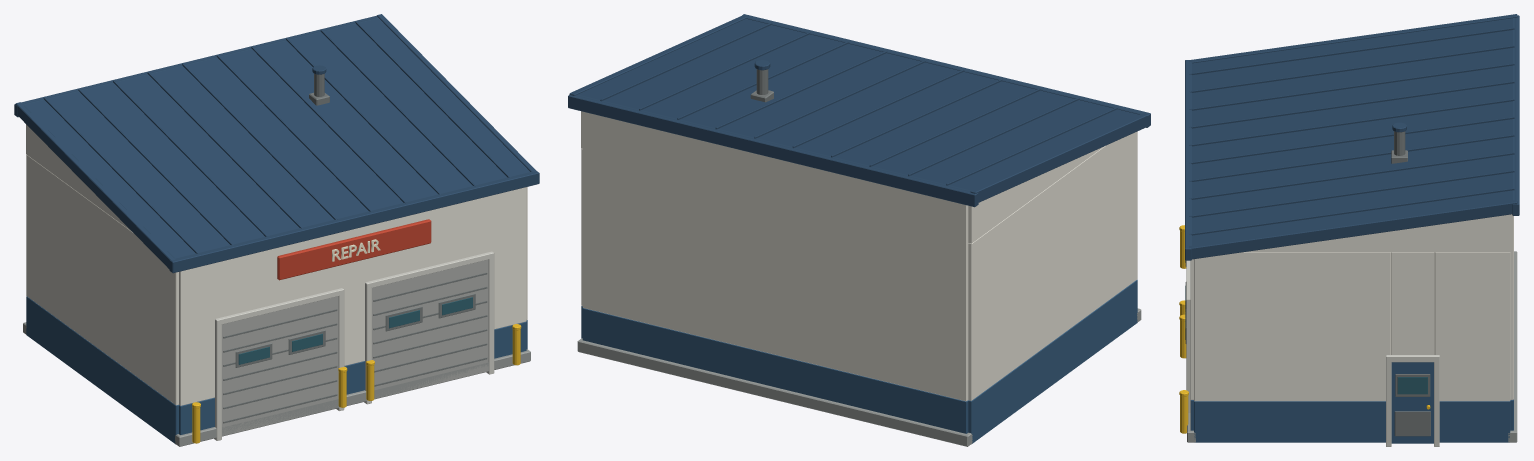
File: AutoRepair.glb
The picture shows the model from 3 angles, left to right: view 1: azimuth 30°, elevation 25°; view 2: azimuth 150°, elevation 25°; view 3: azimuth 270°, elevation 25°; orthographic projection. The views are drawn at different scales.
Visible parts, largest first — view 1: FTF_Building_AutoRepairShop_SlopedRoof_12x9m_BuildingStatic, GarageDoor_Left_Mesh, GarageDoor_Right_Mesh; view 2: FTF_Building_AutoRepairShop_SlopedRoof_12x9m_BuildingStatic; view 3: FTF_Building_AutoRepairShop_SlopedRoof_12x9m_BuildingStatic, SideDoor_Right_Mesh.
Boxes of the visible parts, bbox=[...] form: FTF_Building_AutoRepairShop_SlopedRoof_12x9m_BuildingStatic: bbox=[14, 14, 539, 446]; GarageDoor_Left_Mesh: bbox=[222, 296, 338, 436]; GarageDoor_Right_Mesh: bbox=[372, 259, 488, 399]; FTF_Building_AutoRepairShop_SlopedRoof_12x9m_BuildingStatic: bbox=[568, 14, 1150, 446]; FTF_Building_AutoRepairShop_SlopedRoof_12x9m_BuildingStatic: bbox=[1179, 14, 1519, 446]; SideDoor_Right_Mesh: bbox=[1391, 362, 1433, 443].
Size of the model in its own units: 12.72 by 8.26 by 9.68.
